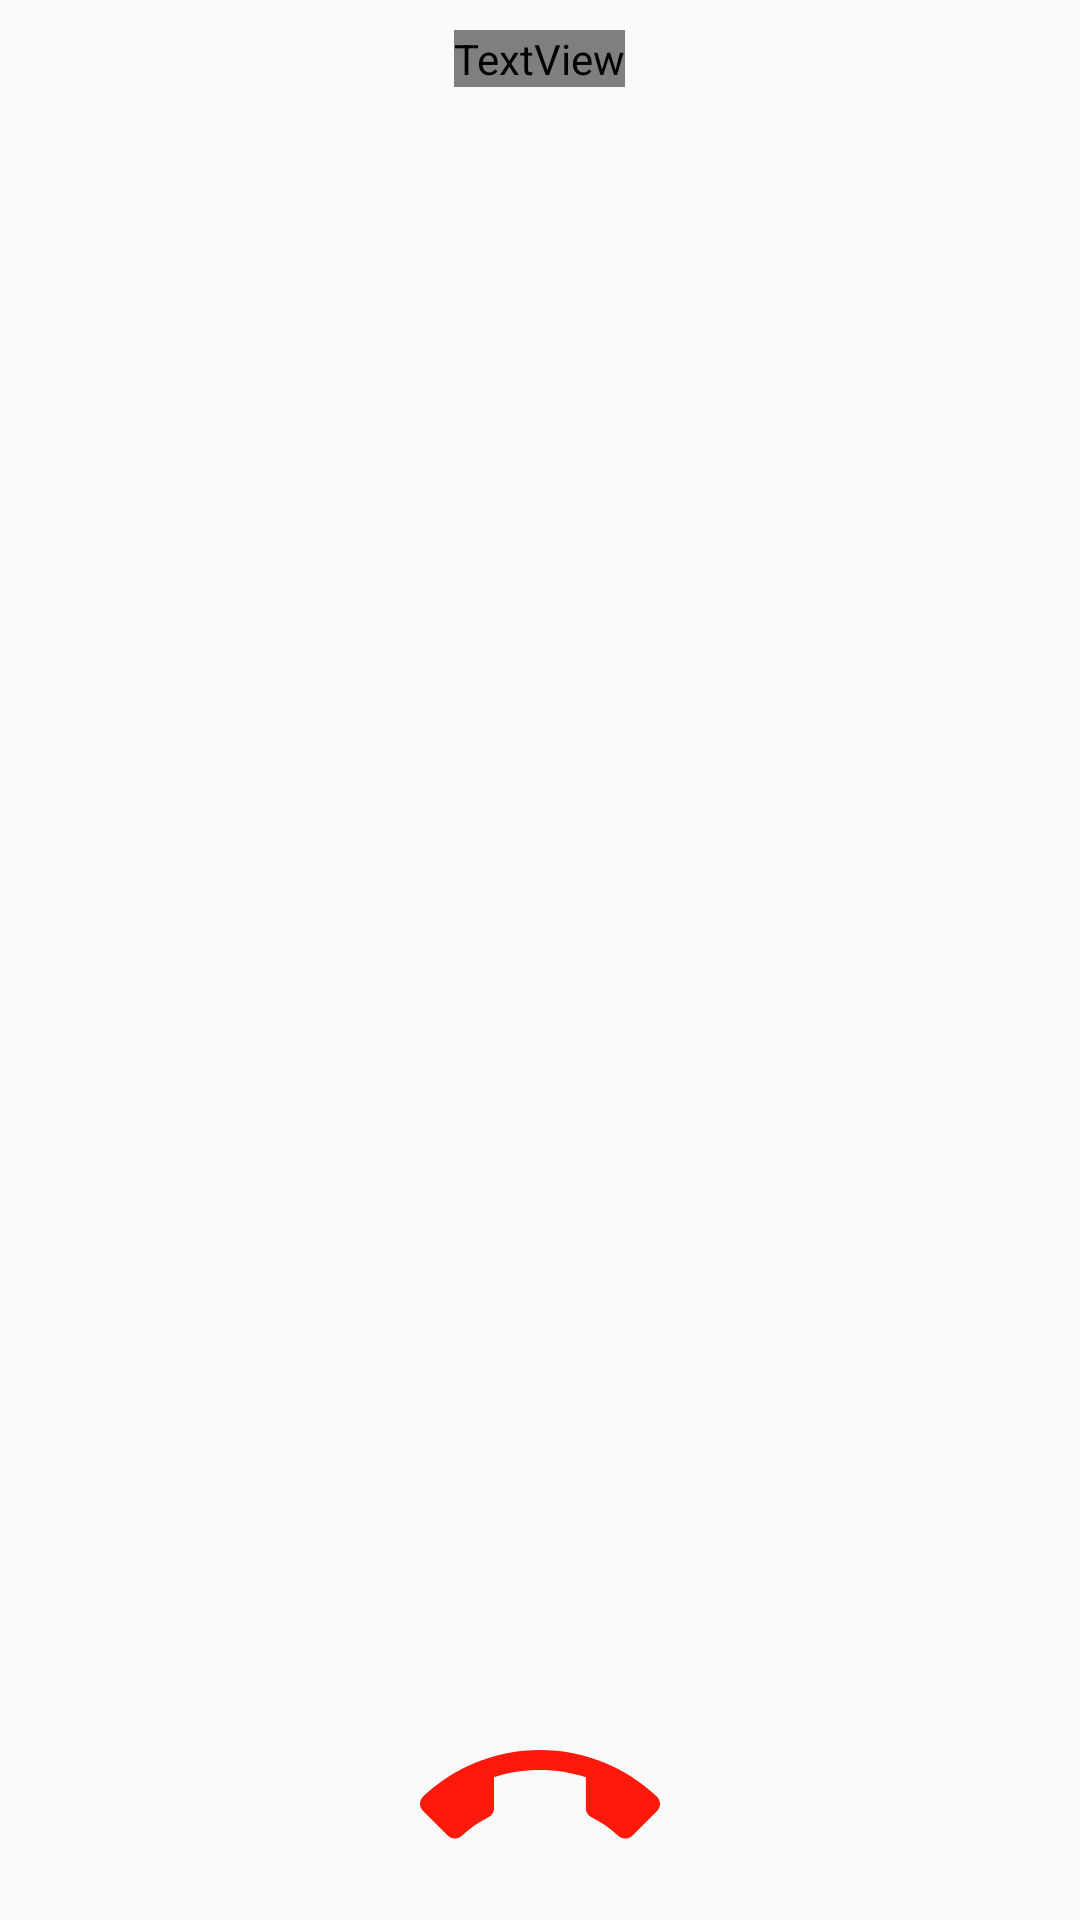

Icon bounding boxes for this 1080×1920 phone screenshot, format box=[x1, y1, x2, y2]:
callend: box=[420, 1750, 660, 1839]
